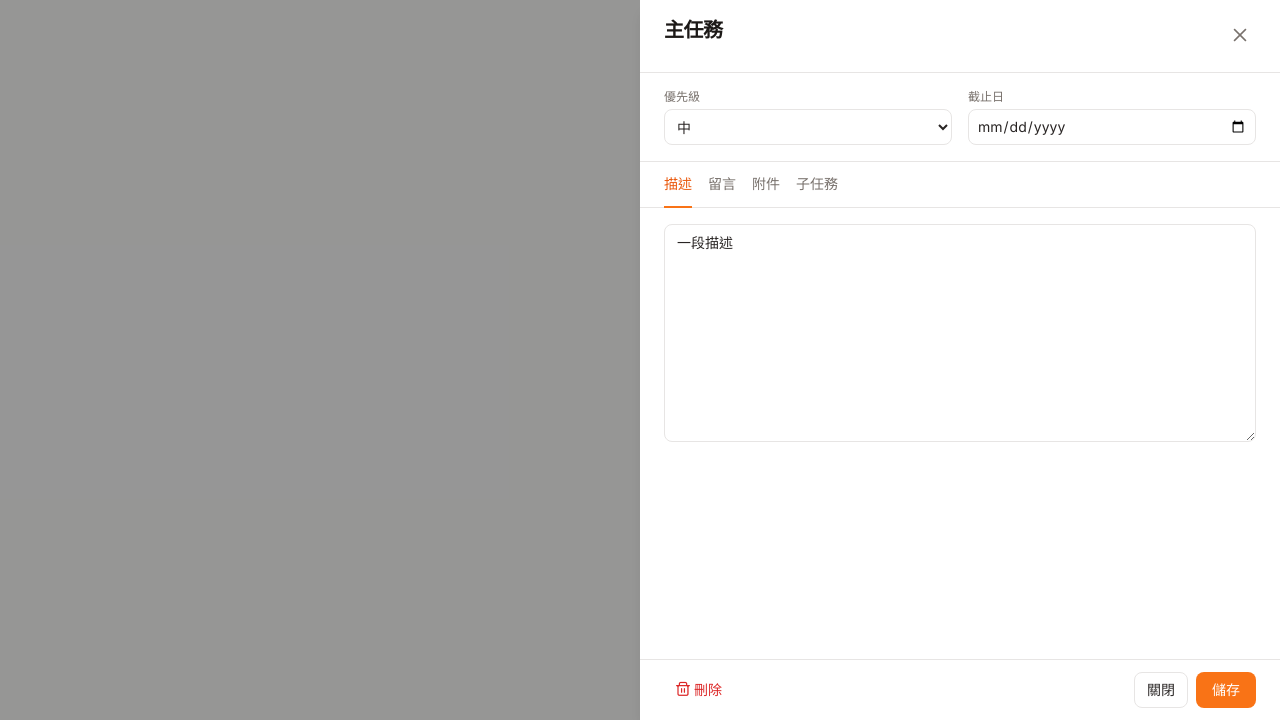
Test case: TaskDrawer › 切到「留言」Tab：抓取留言、顯示列表
What coordinates should you click on to do the following:
click the button with test id "tab-btn-comments"
I would click on:
 (722, 185)
Its box is [708,162,736,208].
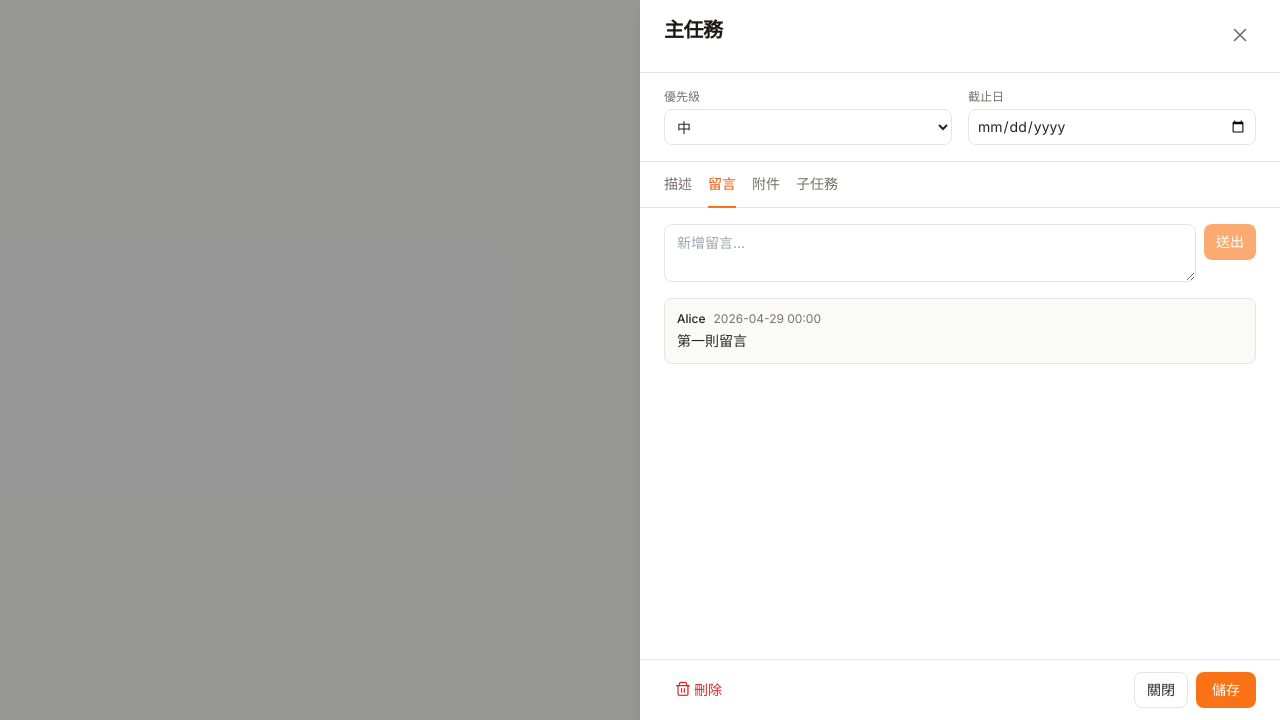
Check: the text "第一則留言" is shown, box [677,332,747,349]
Check: the text "Alice" is shown, box [677,311,706,327]
